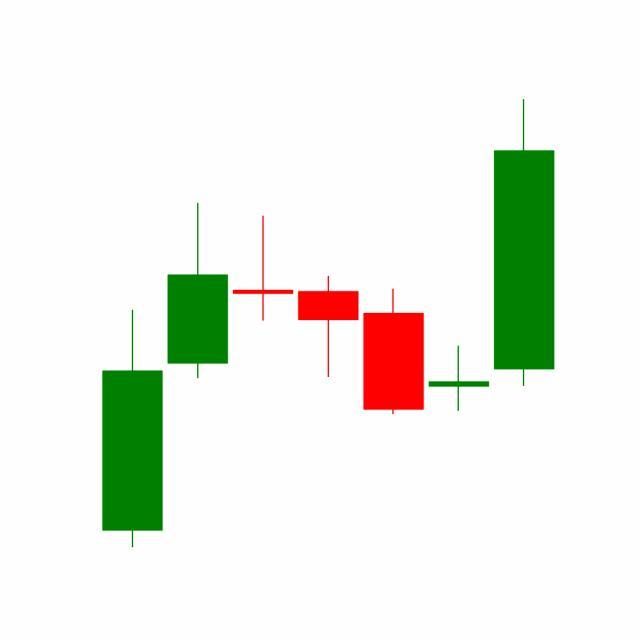Hikkake Pattern: (229, 100, 555, 420)
